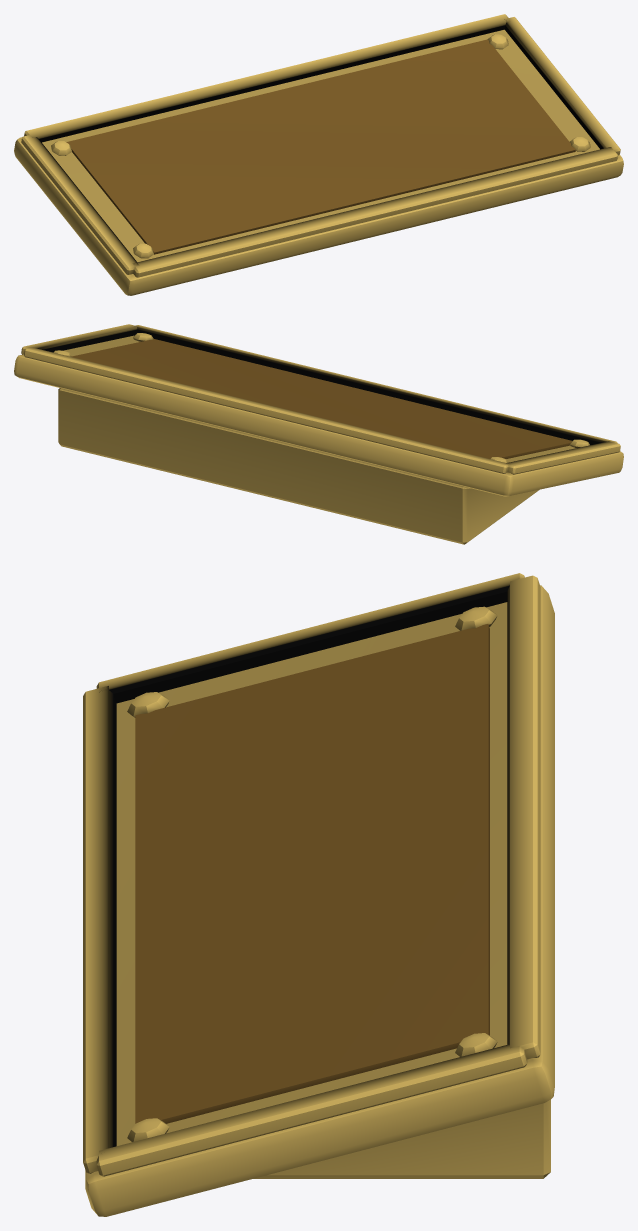
Rendered from gift_engraving_plate.glb.
The picture shows the model from 3 angles, top to bottom: view 1: azimuth 30°, elevation 25°; view 2: azimuth 150°, elevation 25°; view 3: azimuth 270°, elevation 25°; orthographic projection. The views are drawn at different scales.
Parts seen in each view (by area): view 1: GiftPlate_Field, GiftPlate_Frame; view 2: GiftPlate_Frame, GiftPlate_Field; view 3: GiftPlate_Field, GiftPlate_Frame.
Boxes of the visible parts, x1,y1,x2,y2 form: GiftPlate_Field: (66,39,575,254); GiftPlate_Frame: (14,14,623,295); GiftPlate_Frame: (14,324,623,544); GiftPlate_Field: (71,339,571,458); GiftPlate_Field: (135,624,489,1123); GiftPlate_Frame: (83,573,554,1216).
Size of the model in its own units: 0.062 by 0.0103 by 0.0254.
